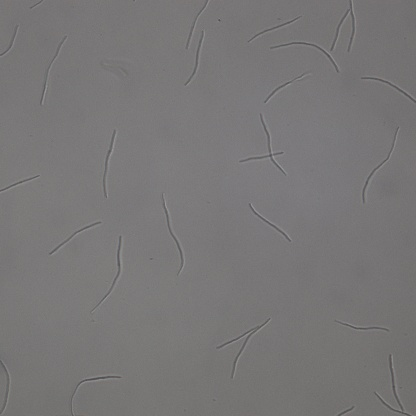Sensitive: (217, 318, 271, 378), (360, 127, 400, 205), (240, 113, 287, 176), (373, 353, 413, 416), (94, 235, 125, 313), (68, 375, 122, 416), (39, 33, 68, 106), (271, 42, 339, 72), (163, 192, 185, 277), (50, 220, 103, 254), (249, 203, 293, 242), (363, 76, 416, 105), (328, 1, 356, 53), (248, 16, 301, 42), (265, 74, 309, 103), (101, 128, 118, 199), (185, 32, 205, 86), (186, 1, 208, 47), (335, 318, 390, 335), (1, 174, 40, 193)
